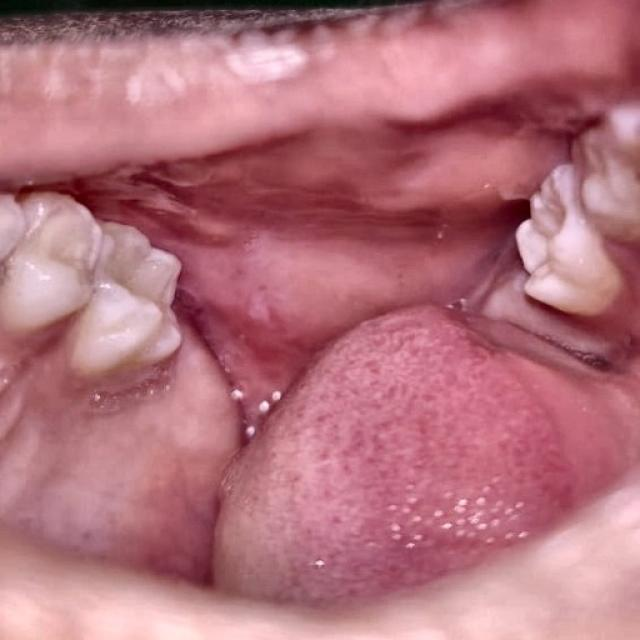processing_area: (0, 92, 634, 598)
